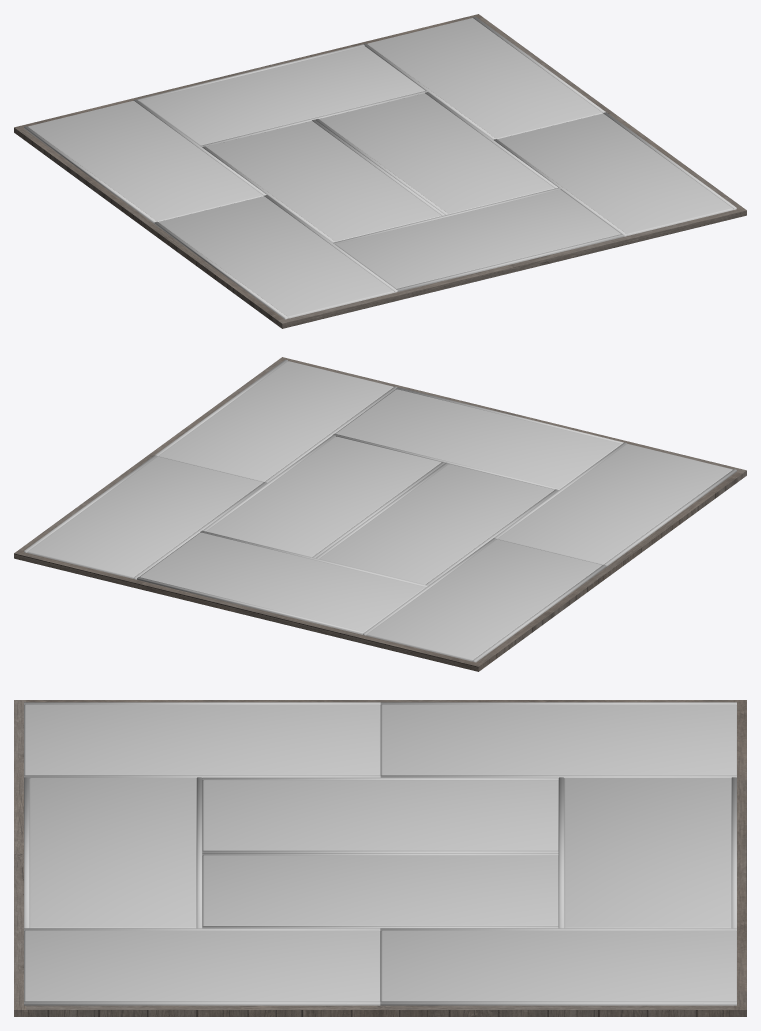
Rendered from jov_tatami_8tb.fbx.
3 views of the same model, one above another, from view 1: azimuth 30°, elevation 25°; view 2: azimuth 150°, elevation 25°; view 3: azimuth 270°, elevation 25° (orthographic). The views are drawn at different scales.
Visible parts, largest first — view 1: jov_tatami_8tb; view 2: jov_tatami_8tb; view 3: jov_tatami_8tb.
Part boxes in pixels (x1,y1,x2,y2): jov_tatami_8tb: (14,14,746,328); jov_tatami_8tb: (14,357,746,671); jov_tatami_8tb: (14,700,746,1016).
Bounding box in the file's own units: 440 × 6.2 × 440.
